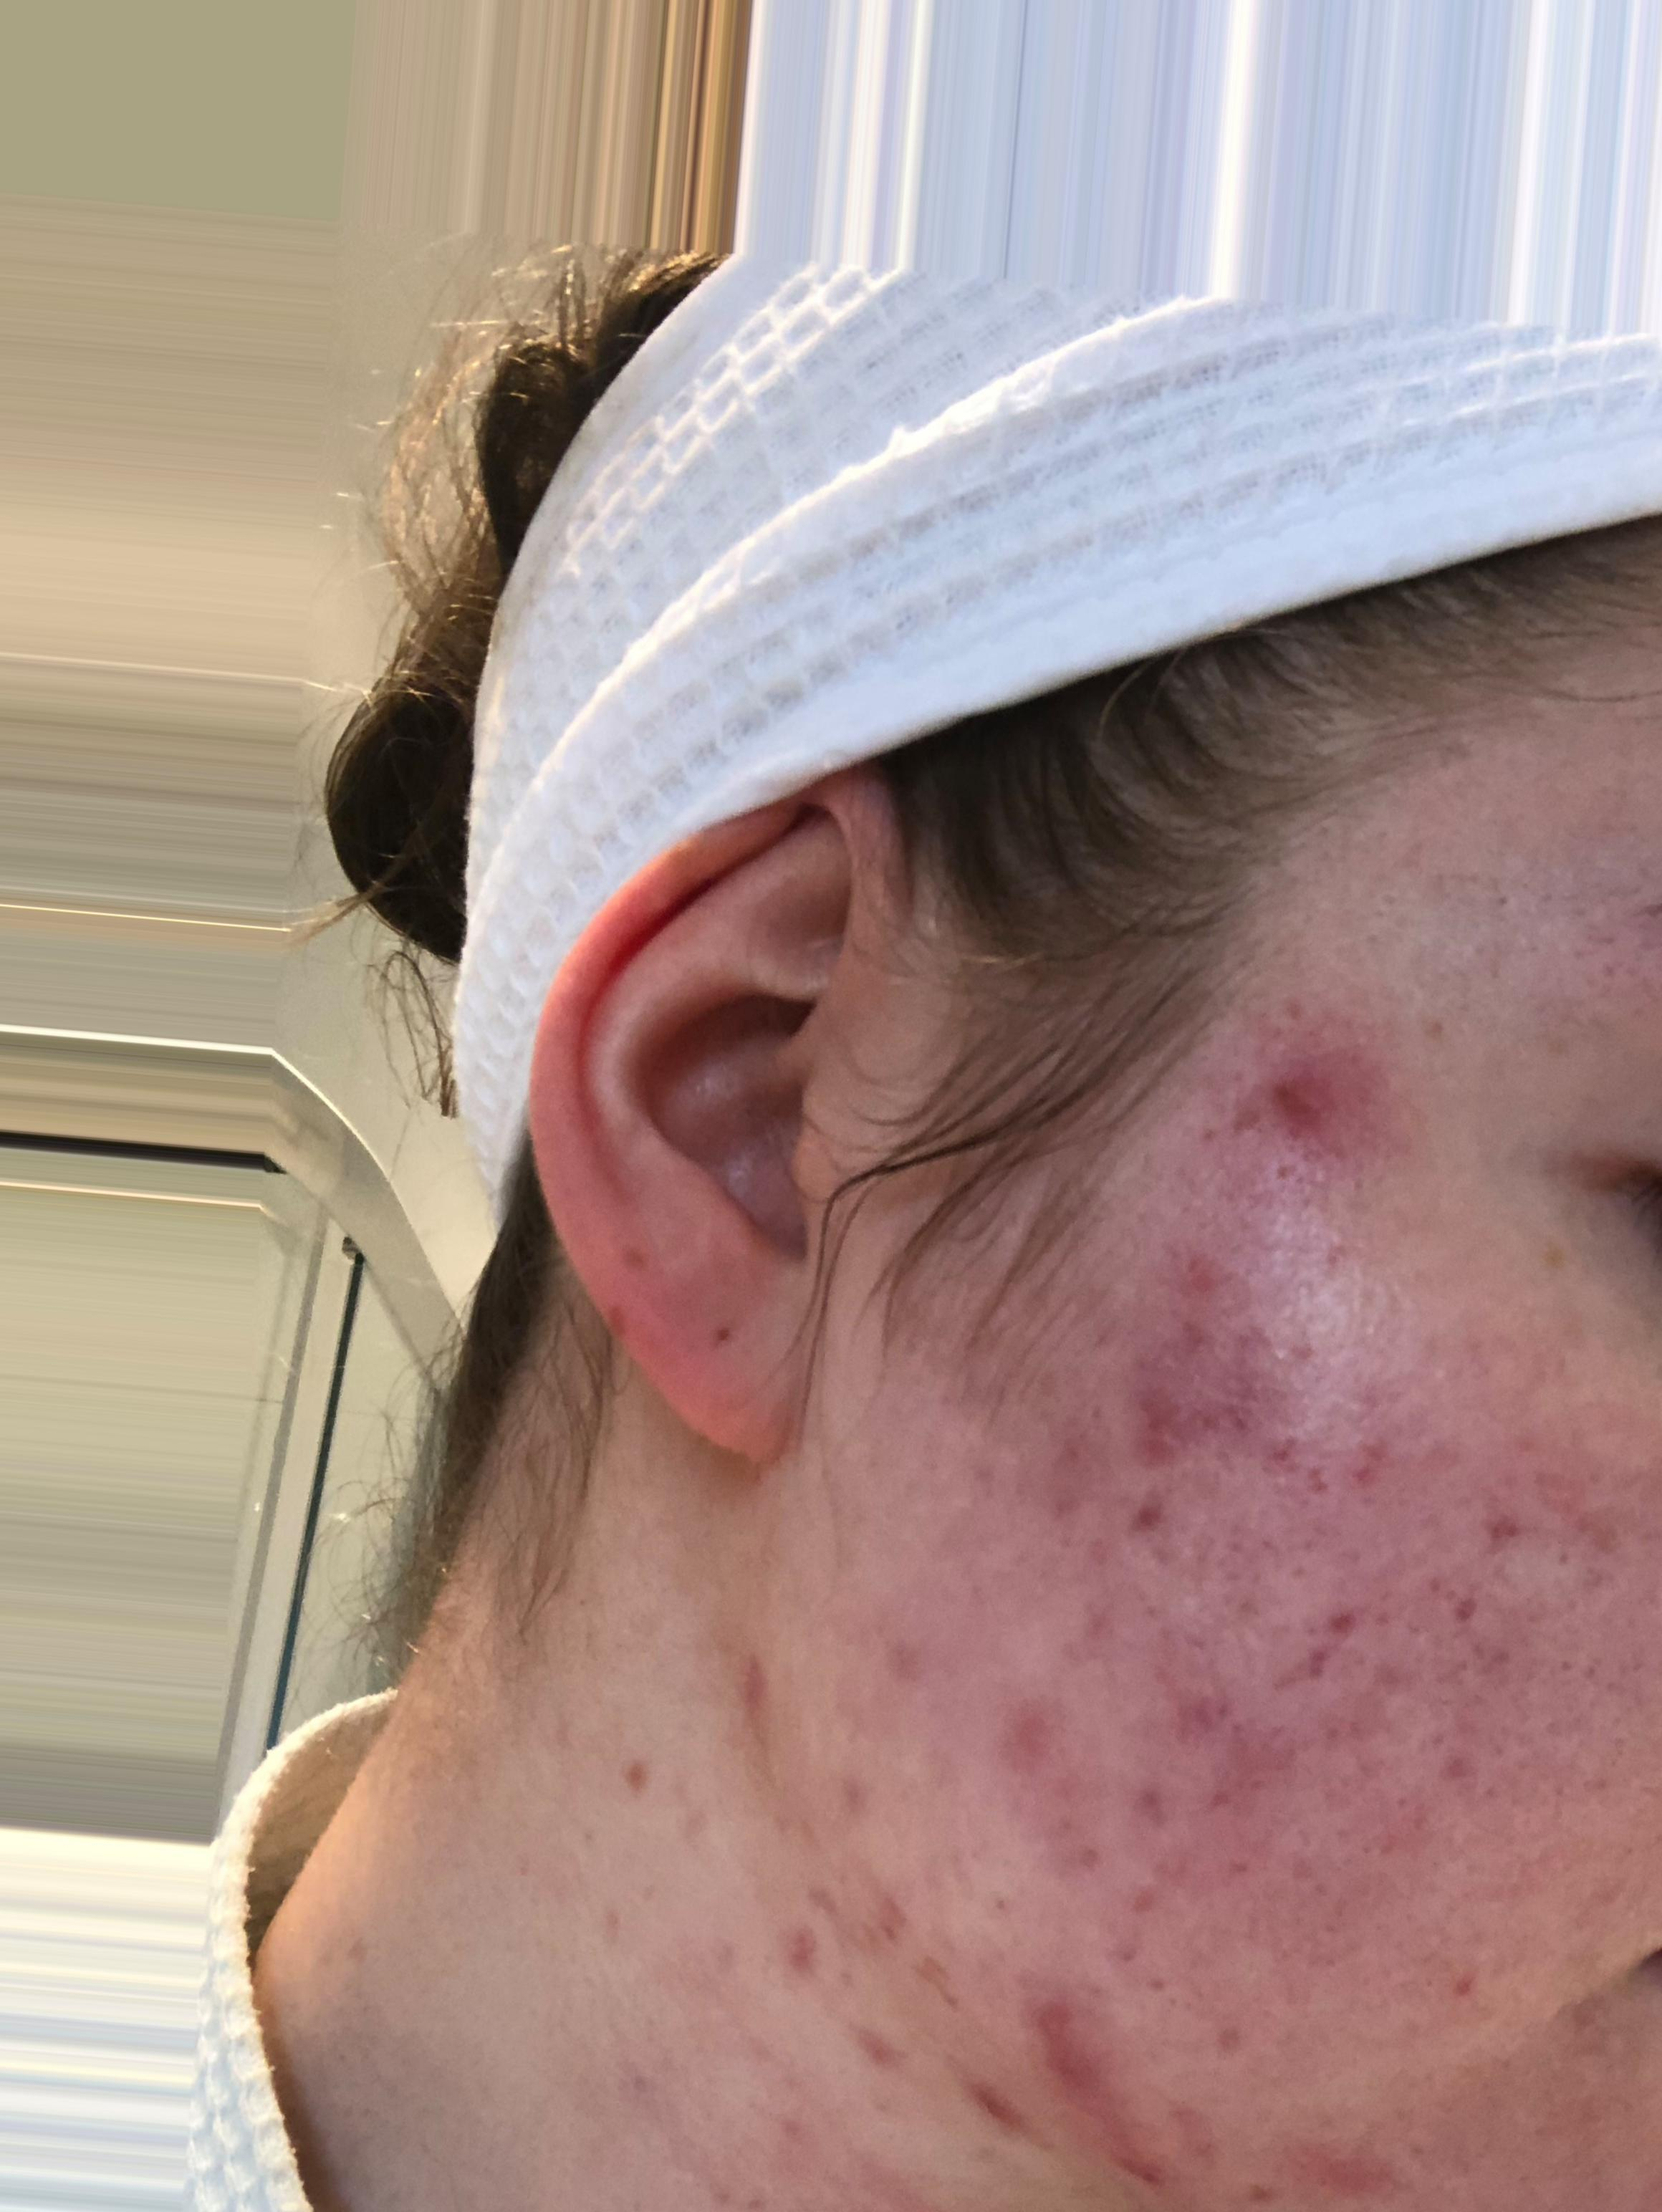Acne: (1011, 1226, 1339, 1526), (931, 1941, 1175, 2212), (960, 1662, 1219, 1912), (1304, 1577, 1604, 1784), (1147, 981, 1397, 1219), (1267, 1353, 1491, 1570), (1168, 1618, 1397, 1812), (688, 1618, 868, 1856), (1226, 2048, 1426, 2212), (924, 1641, 1075, 1784)
